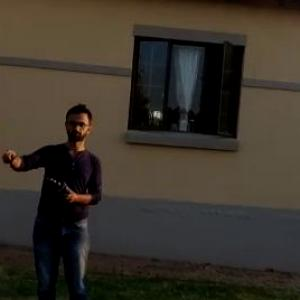follow: (0, 100, 118, 299)
